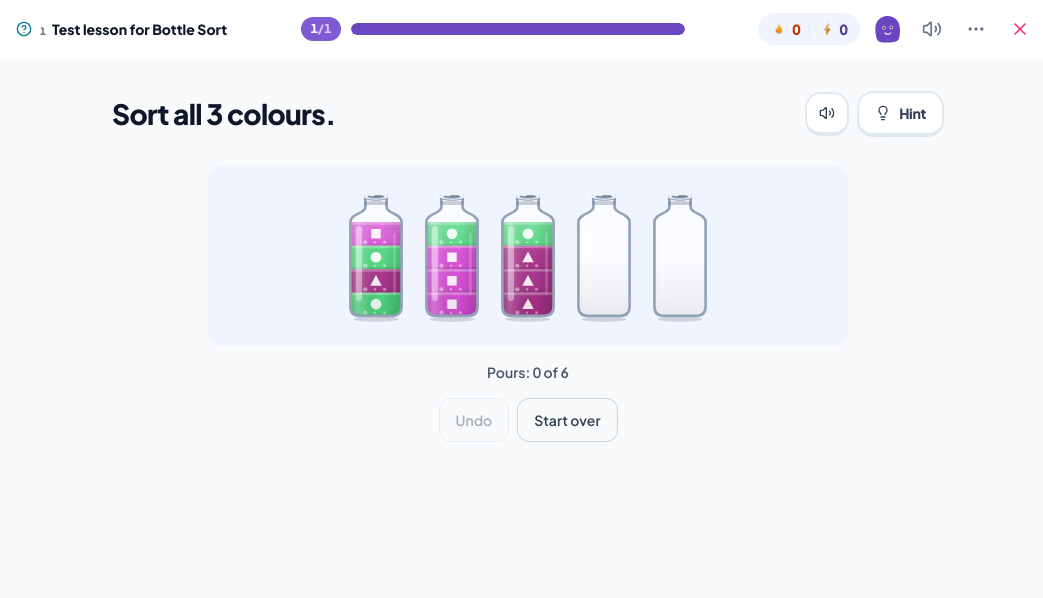
Test: the pour budget › shows the count, and counts a pour once
expect the text "Pours: 0 of 6" is shown: met, box x1=487 y1=363 x2=569 y2=381
Click the button named "Bottle 1, holds 4. circle 1, triangle 3, circle 1, square 2.": [376, 256] box x1=344 y1=189 x2=408 y2=322
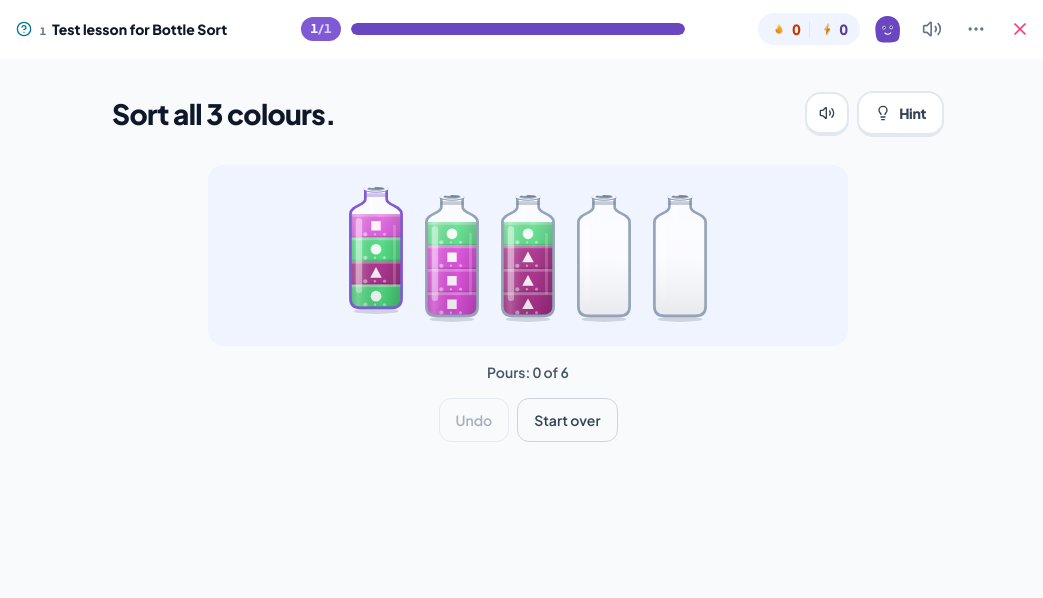
Click the button named "Bottle 4, holds 4. Empty.": [604, 256] box x1=572 y1=189 x2=636 y2=322
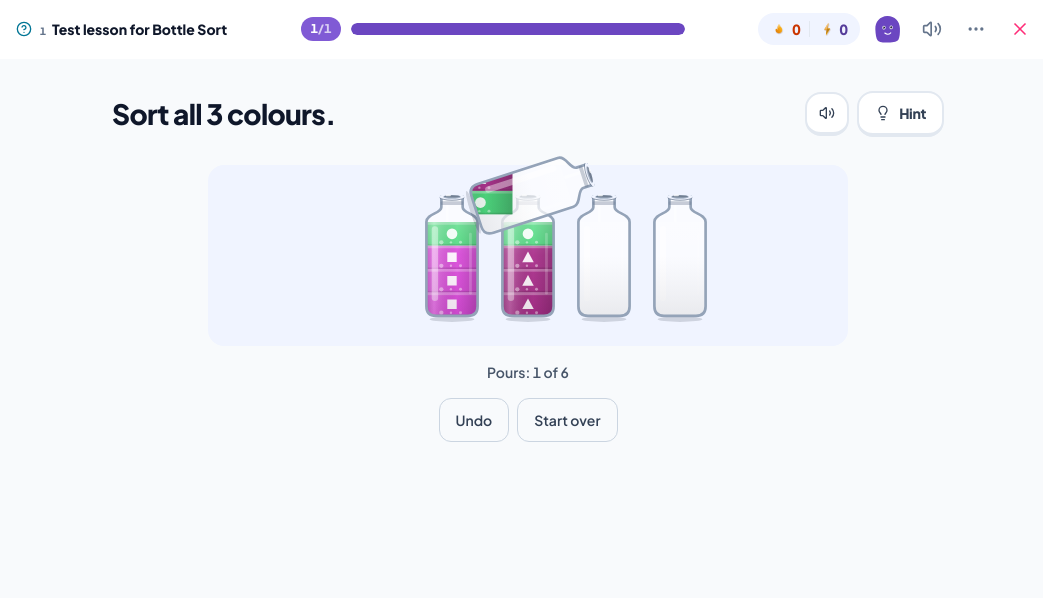
expect the text "Pours: 1 of 6" is shown: met, box x1=487 y1=363 x2=569 y2=381
Undo gives the pour back, or a budget lesson would punish exploring.
Click the button "Undo": [474, 420] box x1=438 y1=398 x2=509 y2=442
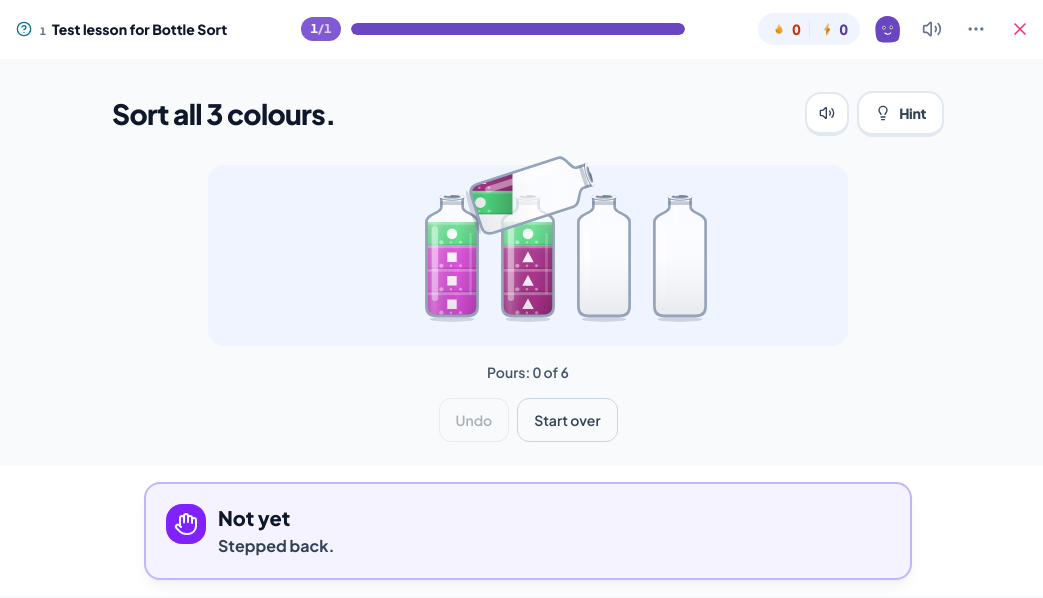
expect the text "Pours: 0 of 6" is shown: met, box x1=487 y1=363 x2=569 y2=381
